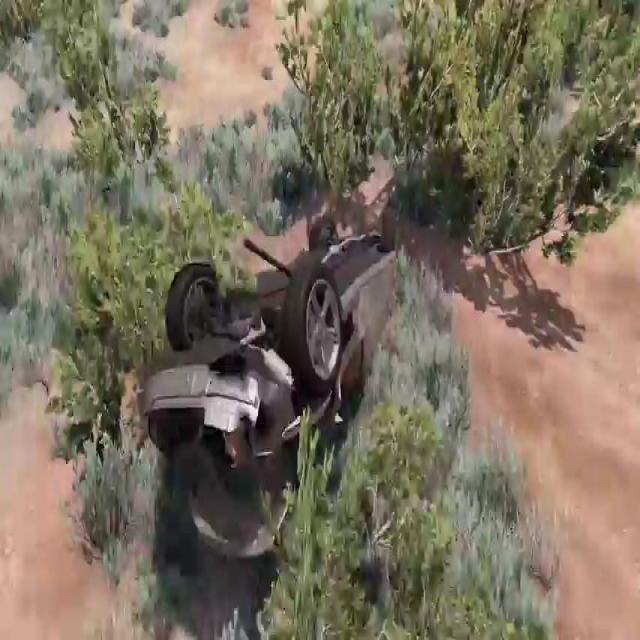accident: (138, 200, 404, 564)
